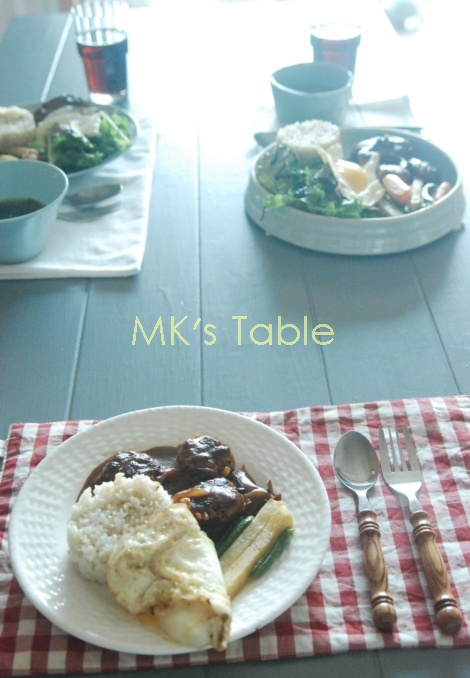chopped lettuce: (274, 163, 320, 213), (57, 136, 119, 157)
fried egg: (138, 541, 229, 642), (332, 148, 386, 206)
meatballs: (177, 439, 239, 517)
plain rice: (77, 486, 133, 530)
